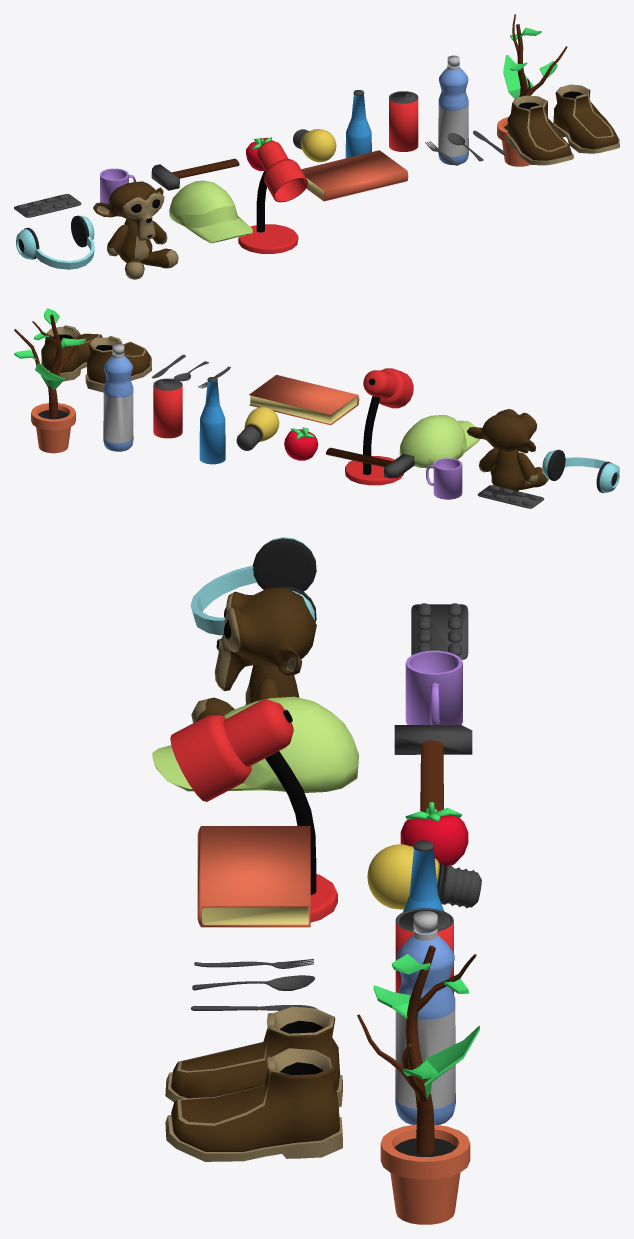
File: ItemsReal.fbx
3 renders of one model, top to bottom at view 1: azimuth 30°, elevation 25°; view 2: azimuth 150°, elevation 25°; view 3: azimuth 270°, elevation 25°, orthographic. The views are drawn at different scales.
Parts seen in each view (by area): view 1: Monke, Lamp, Book, Hat, ShoeR, ShoeL, PlasticBottle, Plant, Headphones, Can, Bottle, Lightbulb (+4 smaller); view 2: Monke, Plant, Book, Lamp, PlasticBottle, Hat, ShoeR, Bottle, Can, ShoeL, Headphones, Mug (+4 smaller); view 3: ShoeL, Plant, Book, Lamp, Monke, Hat, ShoeR, PlasticBottle, Headphones, Mug, Lightbulb, Hammer (+4 smaller).
Boxes of the visible parts, left/top/right/bottom form: Monke: left=93, top=181, right=178, bottom=279; Lamp: left=238, top=141, right=307, bottom=253; Book: left=301, top=150, right=408, bottom=201; Hat: left=169, top=180, right=252, bottom=243; ShoeR: left=506, top=95, right=573, bottom=165; ShoeL: left=553, top=84, right=619, bottom=153; PlasticBottle: left=438, top=55, right=468, bottom=165; Plant: left=497, top=14, right=567, bottom=166; Headphones: left=16, top=215, right=94, bottom=269; Can: left=389, top=91, right=418, bottom=151; Bottle: left=345, top=90, right=371, bottom=158; Lightbulb: left=293, top=129, right=336, bottom=162; Monke: left=467, top=409, right=548, bottom=490; Plant: left=14, top=308, right=85, bottom=453; Book: left=249, top=375, right=359, bottom=425; Lamp: left=345, top=368, right=413, bottom=485; PlasticBottle: left=103, top=343, right=133, bottom=451; Hat: left=399, top=415, right=480, bottom=468; ShoeR: left=85, top=336, right=151, bottom=392; Bottle: left=199, top=377, right=225, bottom=464; Can: left=153, top=378, right=182, bottom=438; ShoeL: left=41, top=325, right=102, bottom=381; Headphones: left=542, top=449, right=619, bottom=492; Mug: left=426, top=458, right=462, bottom=499; ShoeL: left=165, top=1048, right=342, bottom=1161; Plant: left=357, top=945, right=479, bottom=1224; Book: left=197, top=826, right=310, bottom=927; Lamp: left=170, top=699, right=337, bottom=922; Monke: left=191, top=587, right=316, bottom=722; Hat: left=152, top=696, right=358, bottom=792; ShoeR: left=165, top=1006, right=342, bottom=1107; PlasticBottle: left=395, top=911, right=455, bottom=1124; Headphones: left=190, top=537, right=316, bottom=635; Mug: left=405, top=650, right=462, bottom=724; Lightbulb: left=367, top=844, right=481, bottom=909; Hammer: left=394, top=725, right=472, bottom=811.
Size of the model in its own units: 279 by 62.14 by 69.7.
